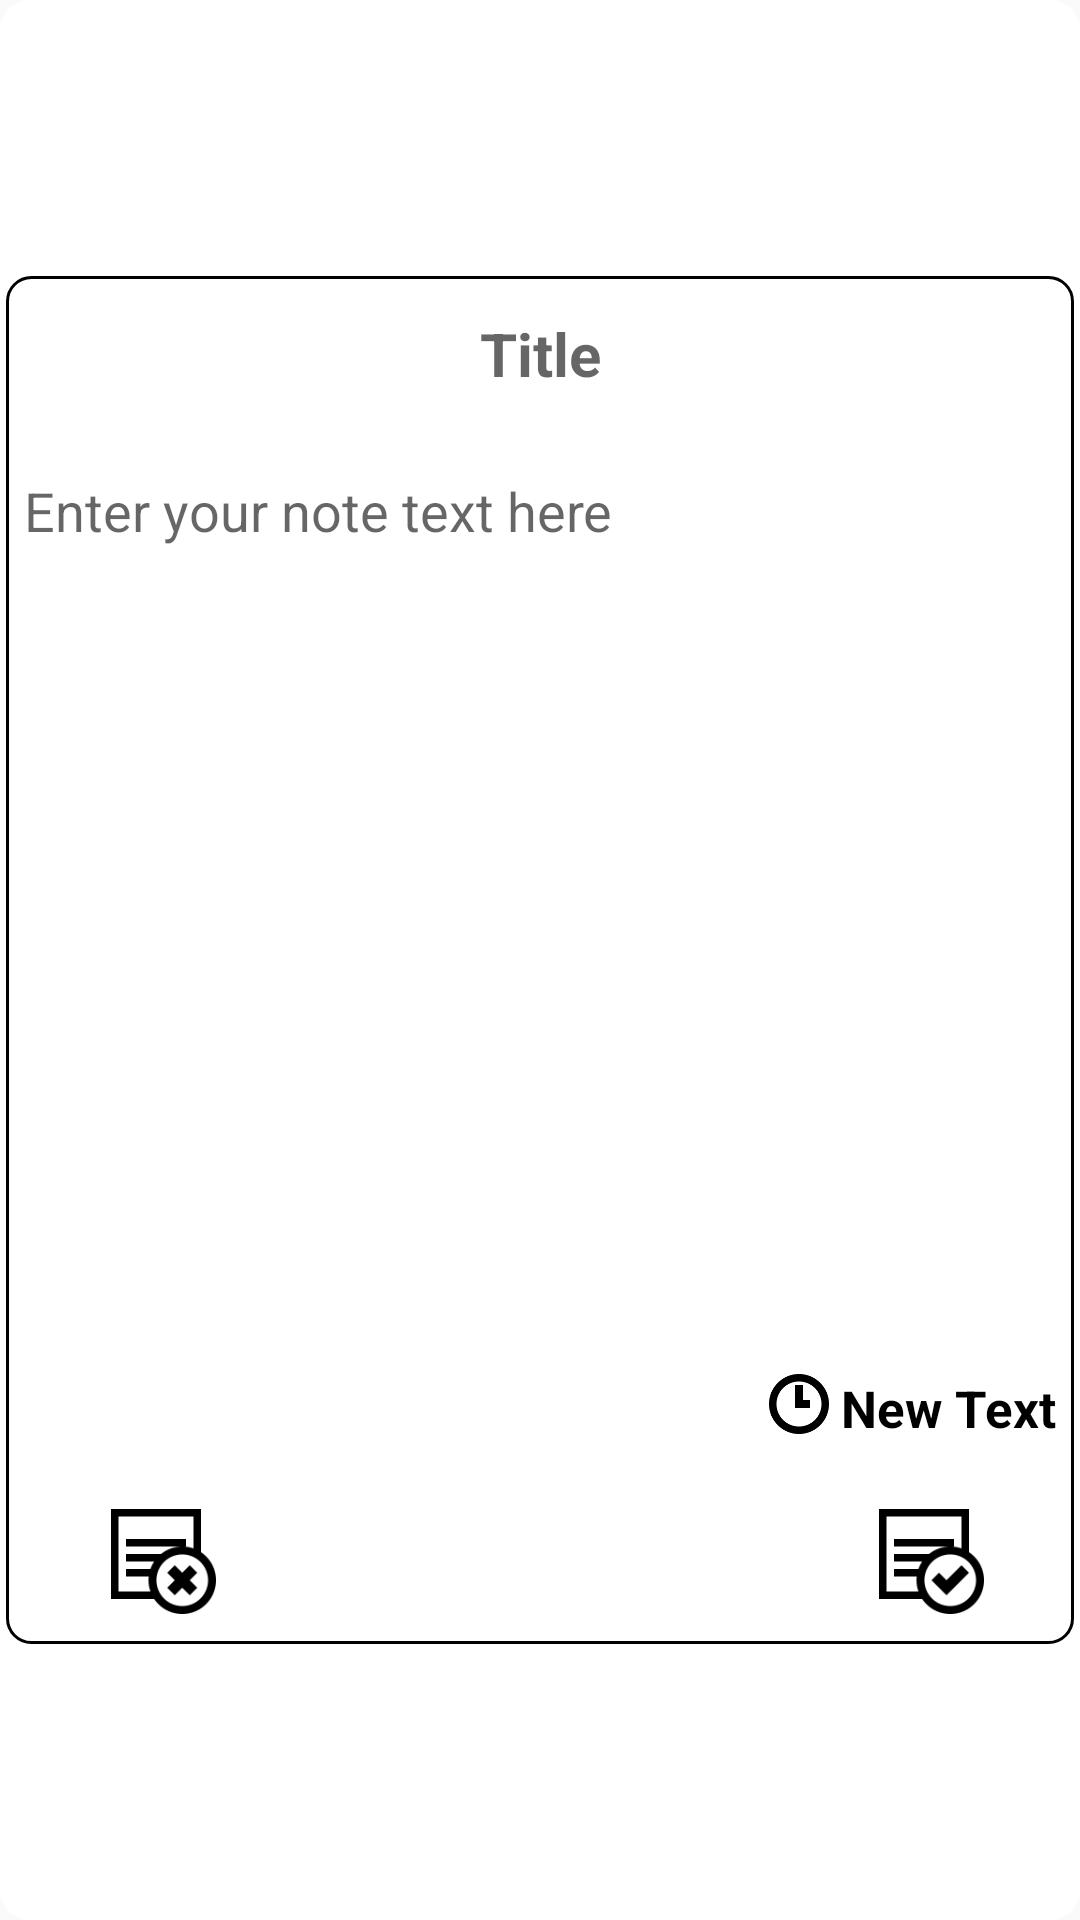

Icons on this 1080px x 1920px Android screen, each with its box as (x1, y1, x2, y2):
clock: (769, 1374, 829, 1434)
notes accept: (879, 1509, 984, 1614)
notes cancel: (111, 1509, 216, 1614)
